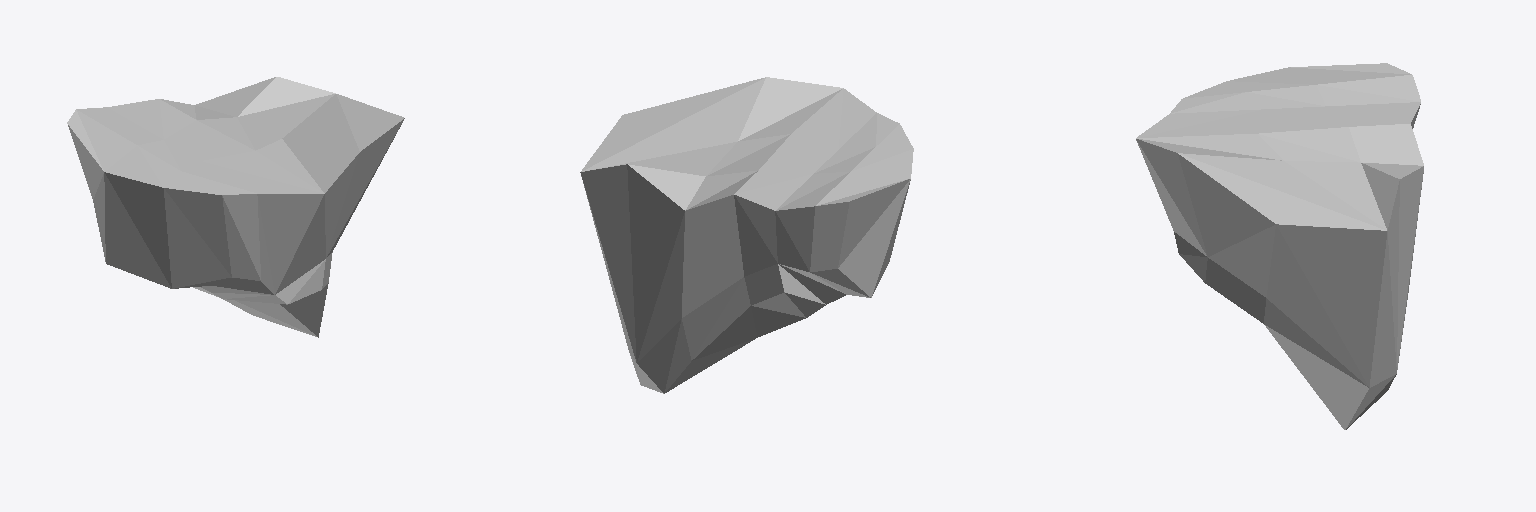
The model's file is Halved_Iceberg.obj.
3 renders of one model, left to right at view 1: azimuth 30°, elevation 25°; view 2: azimuth 150°, elevation 25°; view 3: azimuth 270°, elevation 25°, orthographic.
Parts seen in each view (by area): view 1: Halved_Iceberg; view 2: Halved_Iceberg; view 3: Halved_Iceberg.
Boxes of the visible parts, box(x1,y1,x2,y2) form: Halved_Iceberg: box(67, 77, 404, 337); Halved_Iceberg: box(580, 77, 913, 393); Halved_Iceberg: box(1136, 63, 1423, 429).
Bounding box in the file's own units: 34.03 × 28.37 × 28.88.